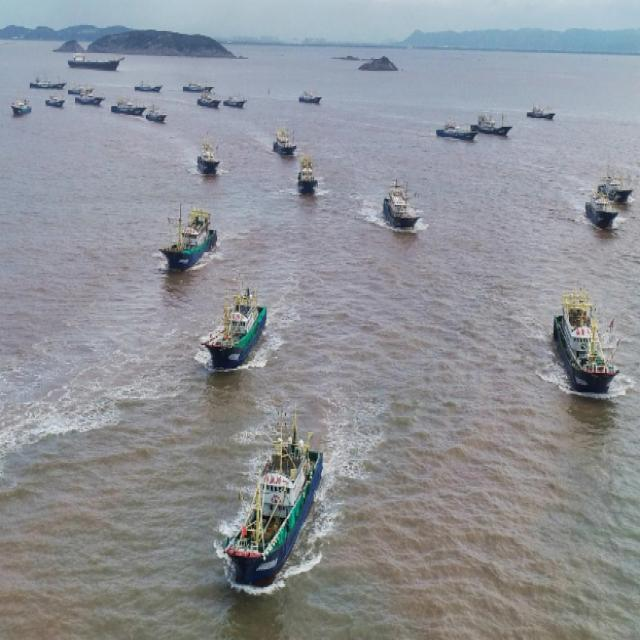fishing boat: (219, 420, 327, 588), (552, 286, 618, 385), (206, 280, 267, 368), (166, 202, 216, 267), (383, 172, 420, 228), (586, 189, 621, 234), (64, 50, 127, 69), (598, 174, 635, 204), (297, 154, 320, 198), (197, 139, 222, 172), (435, 120, 478, 139), (474, 112, 509, 135), (274, 127, 298, 157), (528, 102, 559, 125), (74, 88, 105, 110), (110, 99, 146, 117), (30, 77, 66, 92), (224, 91, 247, 113), (183, 80, 211, 98), (135, 78, 164, 95), (11, 95, 32, 118), (195, 88, 219, 108), (298, 89, 320, 106), (145, 107, 169, 122), (64, 82, 94, 94), (45, 92, 66, 107)
